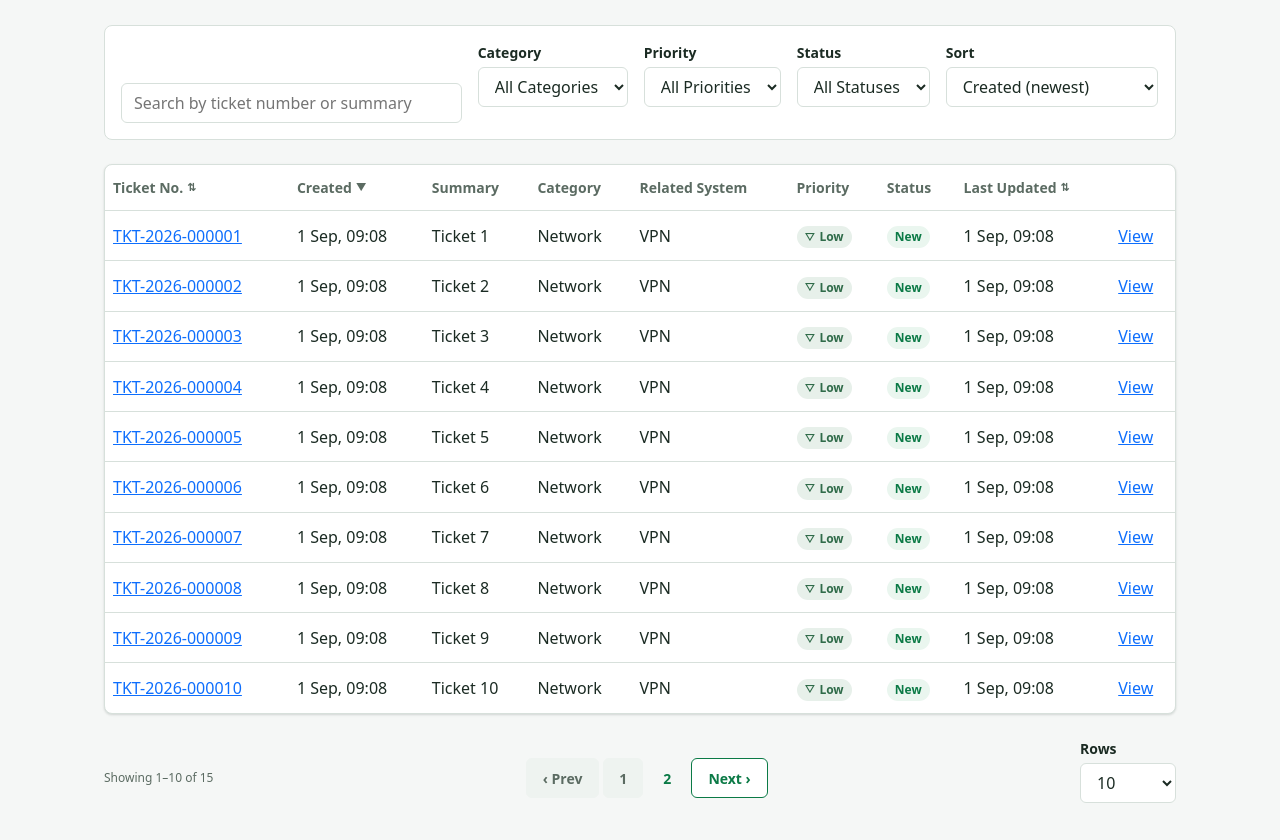
C-27 My Tickets last/over page › shows 'No more tickets on this page.' with a Back to page 1 action when the requested page is past the end — not an error
(page scrolled)
Expected: the table is shown, [105,165,1175,713]
Click the button "Next ›" at [730, 778], box [691,758,768,798]
(page scrolled)
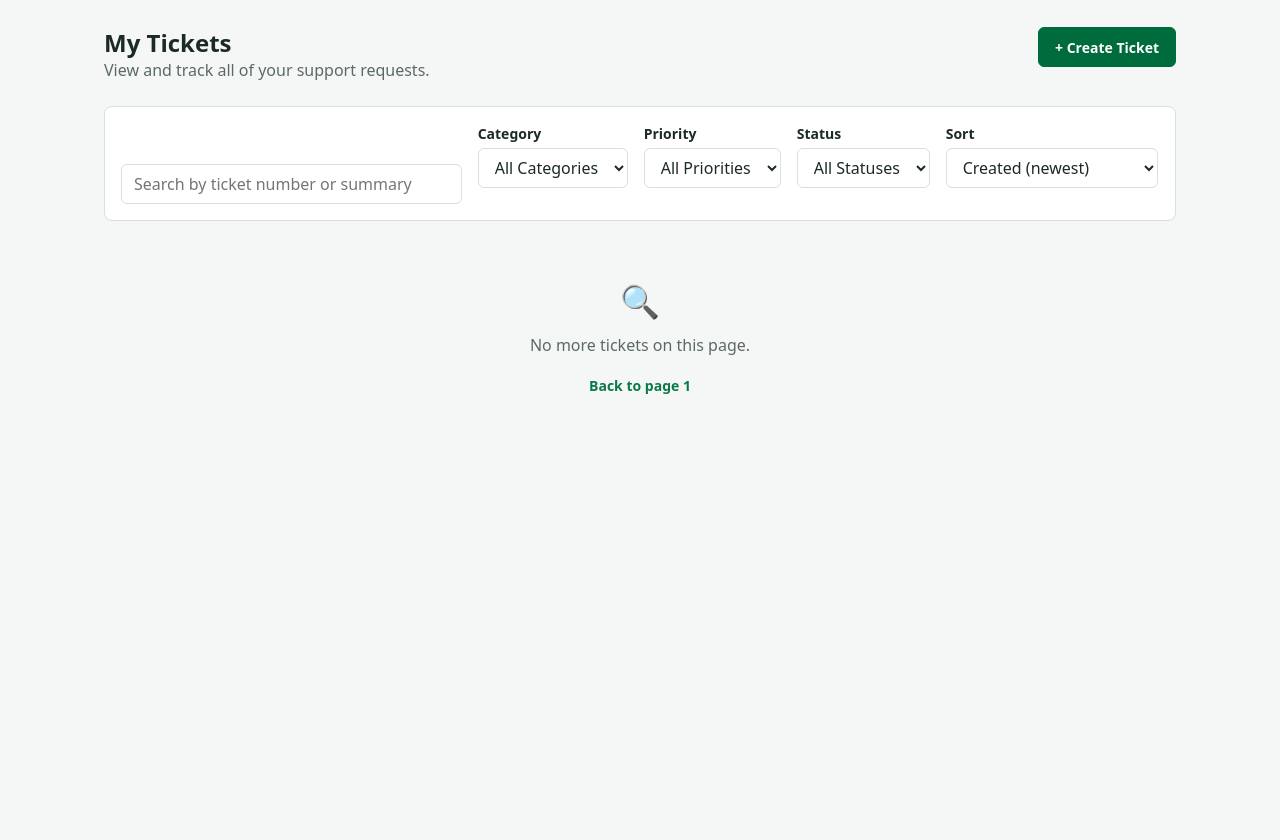
Now the text "No more tickets on this page." is shown, box [530,333,750,357]
Now the button "Back to page 1" is shown
Click the button "Back to page 1" at [640, 385], box [584,365,696,405]
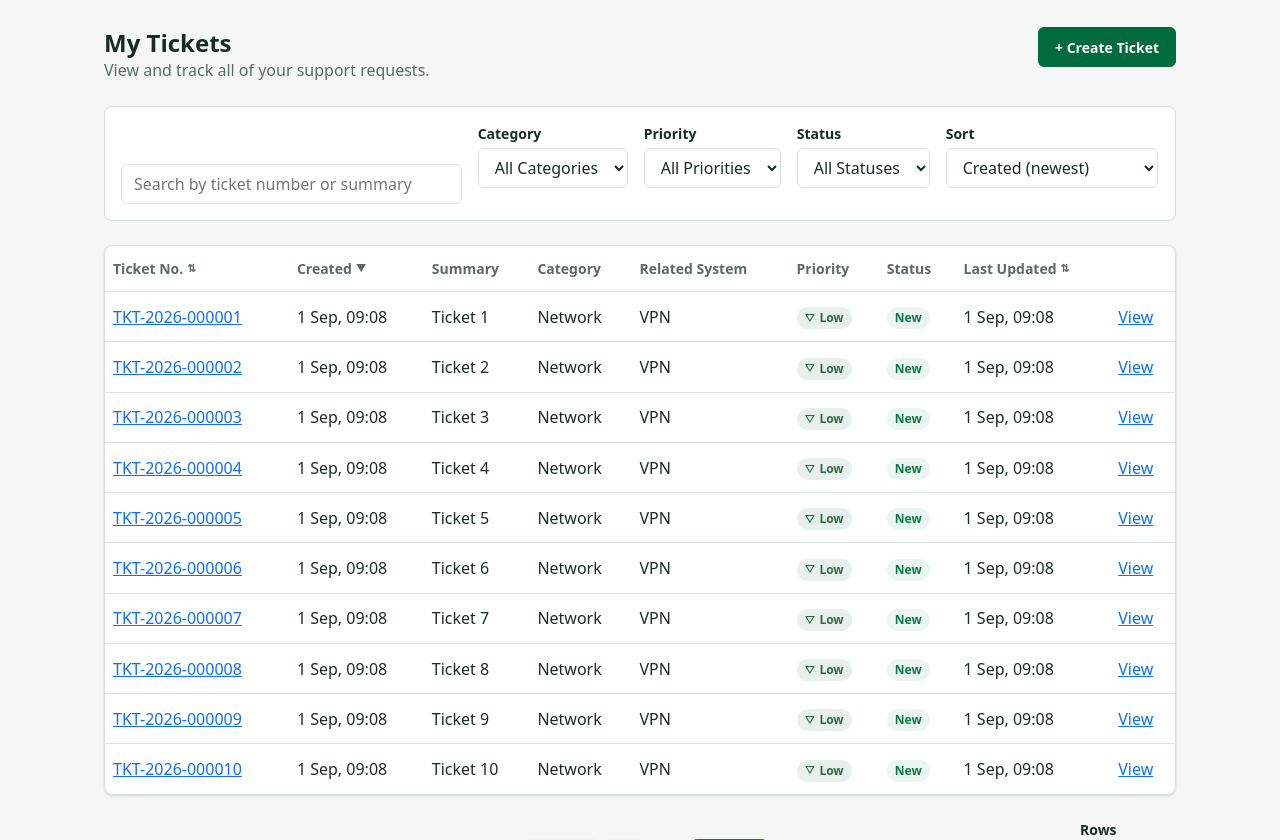
Now the table is shown, box [105,246,1175,794]
